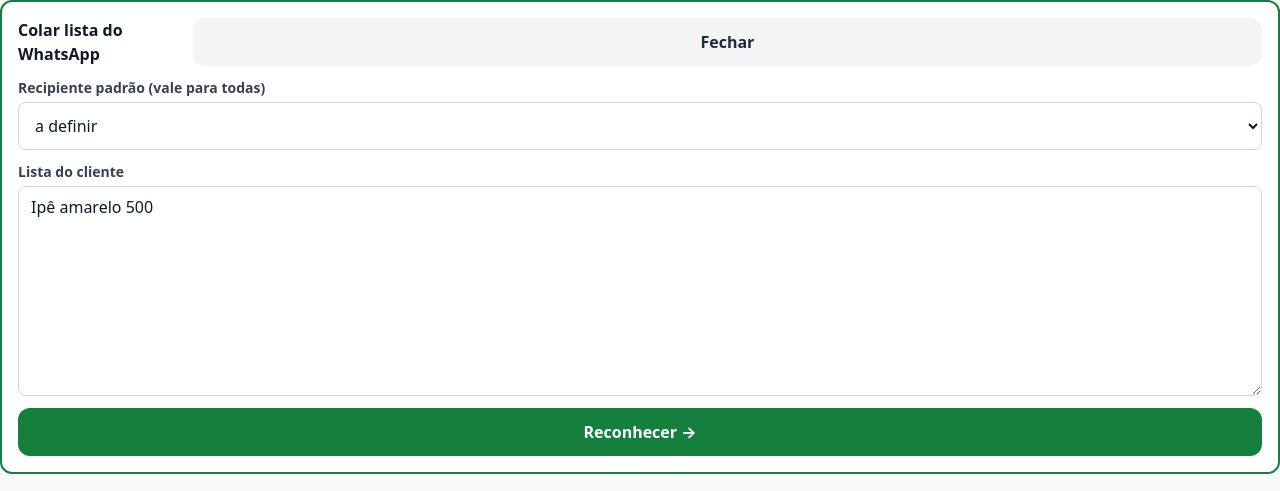
it: conferência da lista colada (T8.16) › é a grade dos itens, com recipiente e altura por linha, e o recipiente padrão no cabeçalho
The image size is (1280, 491).
Select "Tubete" in the dropdown labelled "Recipiente padrão (vale para todas)": (640, 126) [18,102,1262,150]
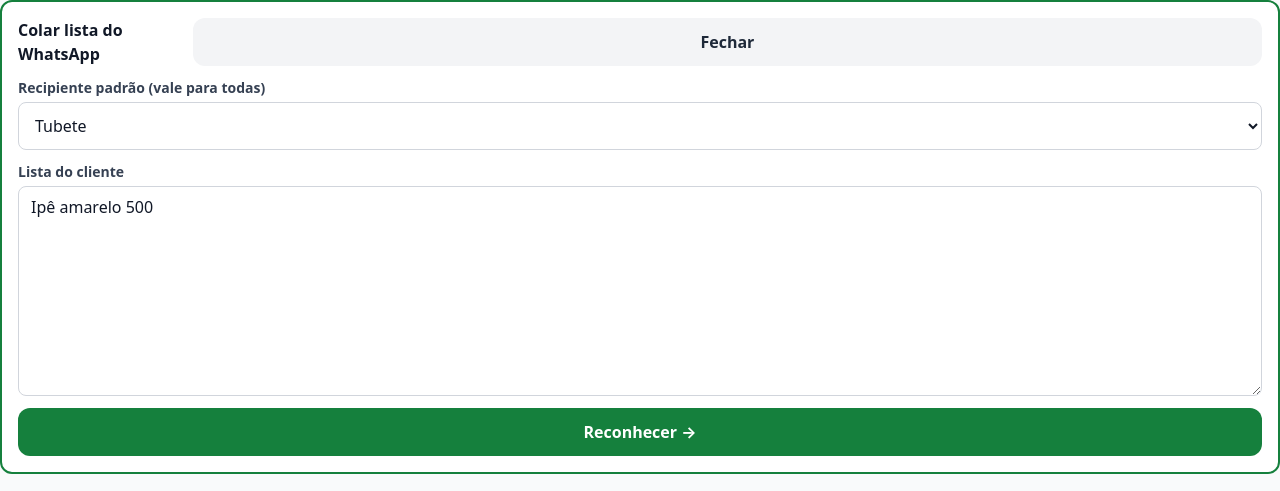
Click the button "Reconhecer →": click(640, 432) [18,408,1262,456]
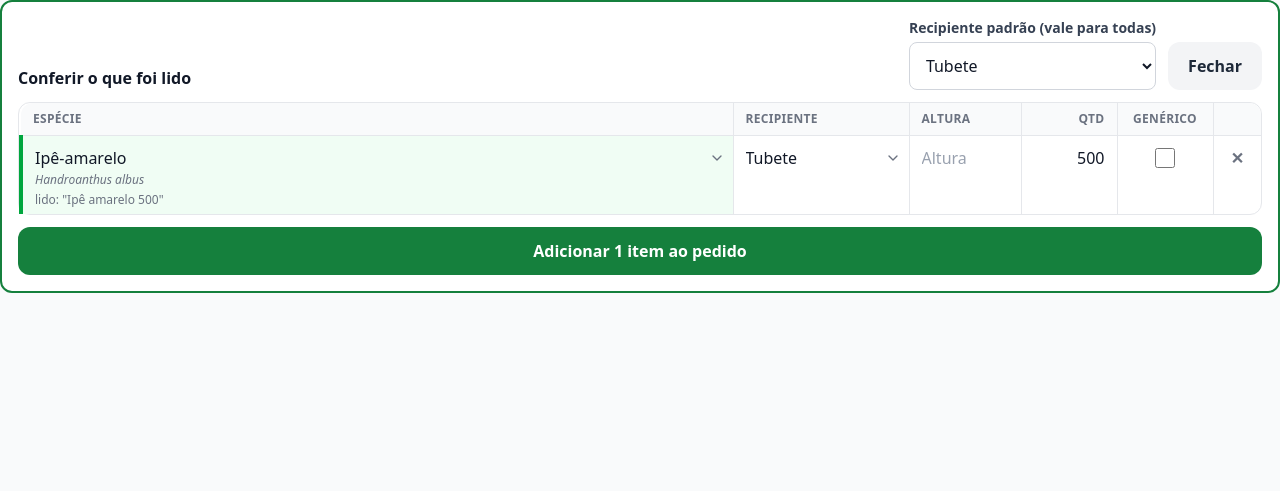
Check: the dropdown labelled "Recipiente padrão (vale para todas)" shows "Tubete", box [909,42,1156,90]
Check: the column headings read "Espécie", "Recipiente", "Altura", "Qtd", "Genérico", "Excluir", in this order, box [21,103,733,136]; [733,103,909,136]; [909,103,1021,136]; [1021,103,1117,136]; [1117,103,1213,136]; [1213,103,1261,136]
